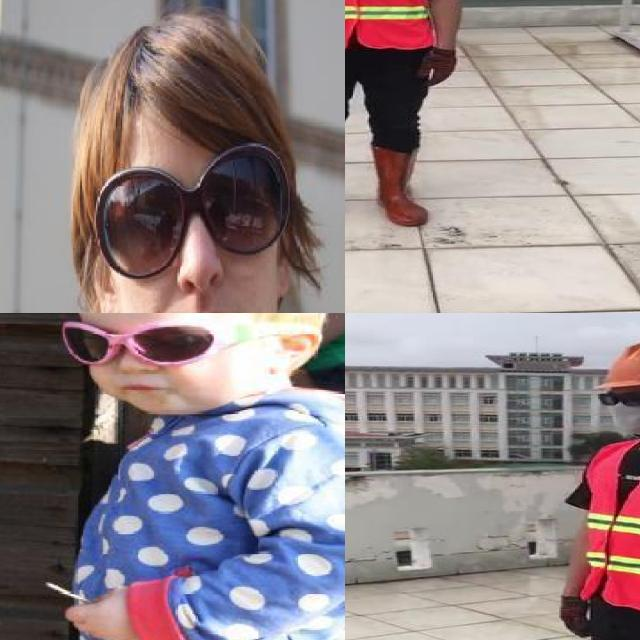boots: (371, 146, 431, 228)
face_mask: (596, 385, 640, 434)
face_nomask: (110, 152, 279, 313)
glasses: (90, 142, 302, 277), (73, 313, 306, 359), (592, 386, 640, 409)
hand_glove: (559, 594, 593, 640), (414, 52, 456, 89)
hand_noglove: (60, 584, 142, 640)
head_helmet: (600, 337, 640, 389)
head_nohelmet: (73, 11, 284, 119)
person: (7, 2, 345, 313), (48, 313, 345, 640), (533, 337, 640, 640), (345, 0, 462, 227)
vest: (580, 437, 640, 614)
